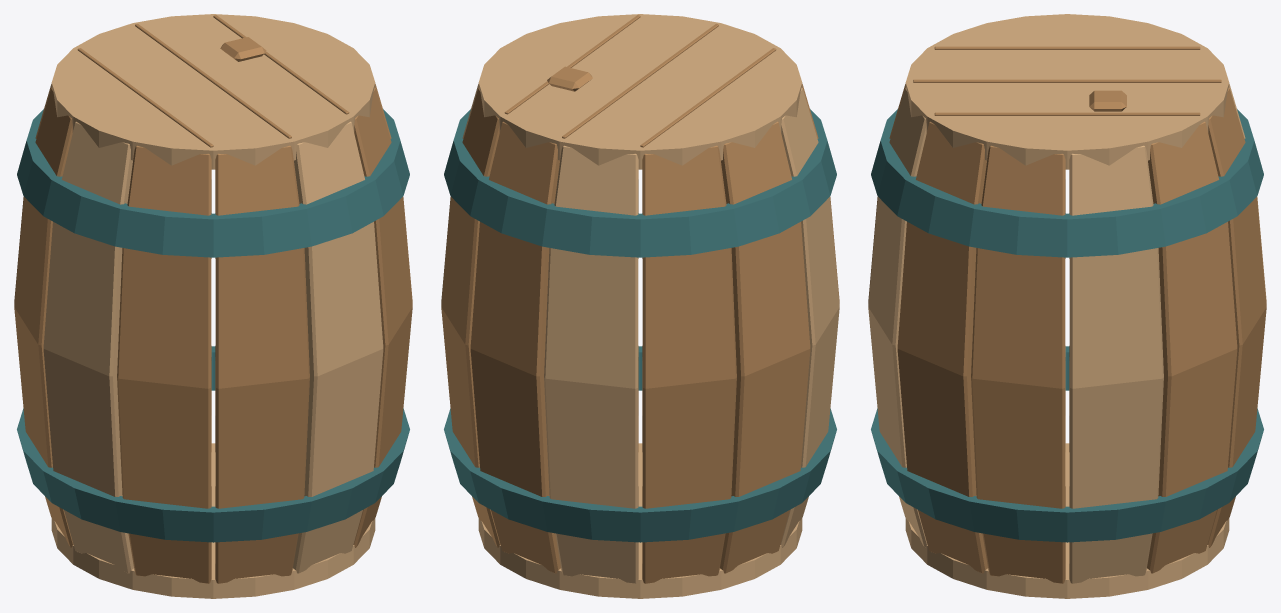
3 renders of one model, left to right at view 1: azimuth 30°, elevation 25°; view 2: azimuth 150°, elevation 25°; view 3: azimuth 270°, elevation 25°, orthographic.
Parts seen in each view (by area): view 1: harbor-barrel-01; view 2: harbor-barrel-01; view 3: harbor-barrel-01.
Boxes of the visible parts, left/top/right/bottom form: harbor-barrel-01: left=14, top=14, right=412, bottom=598; harbor-barrel-01: left=441, top=14, right=839, bottom=598; harbor-barrel-01: left=868, top=14, right=1266, bottom=598.
Bounding box in the file's own units: 0.6874 × 0.873 × 0.6874.
